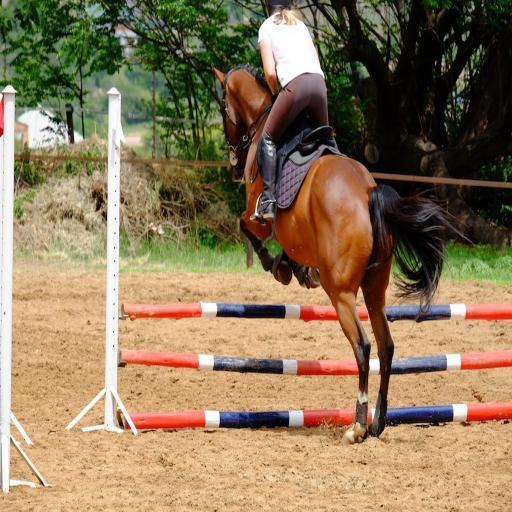horse: (210, 63, 479, 443)
